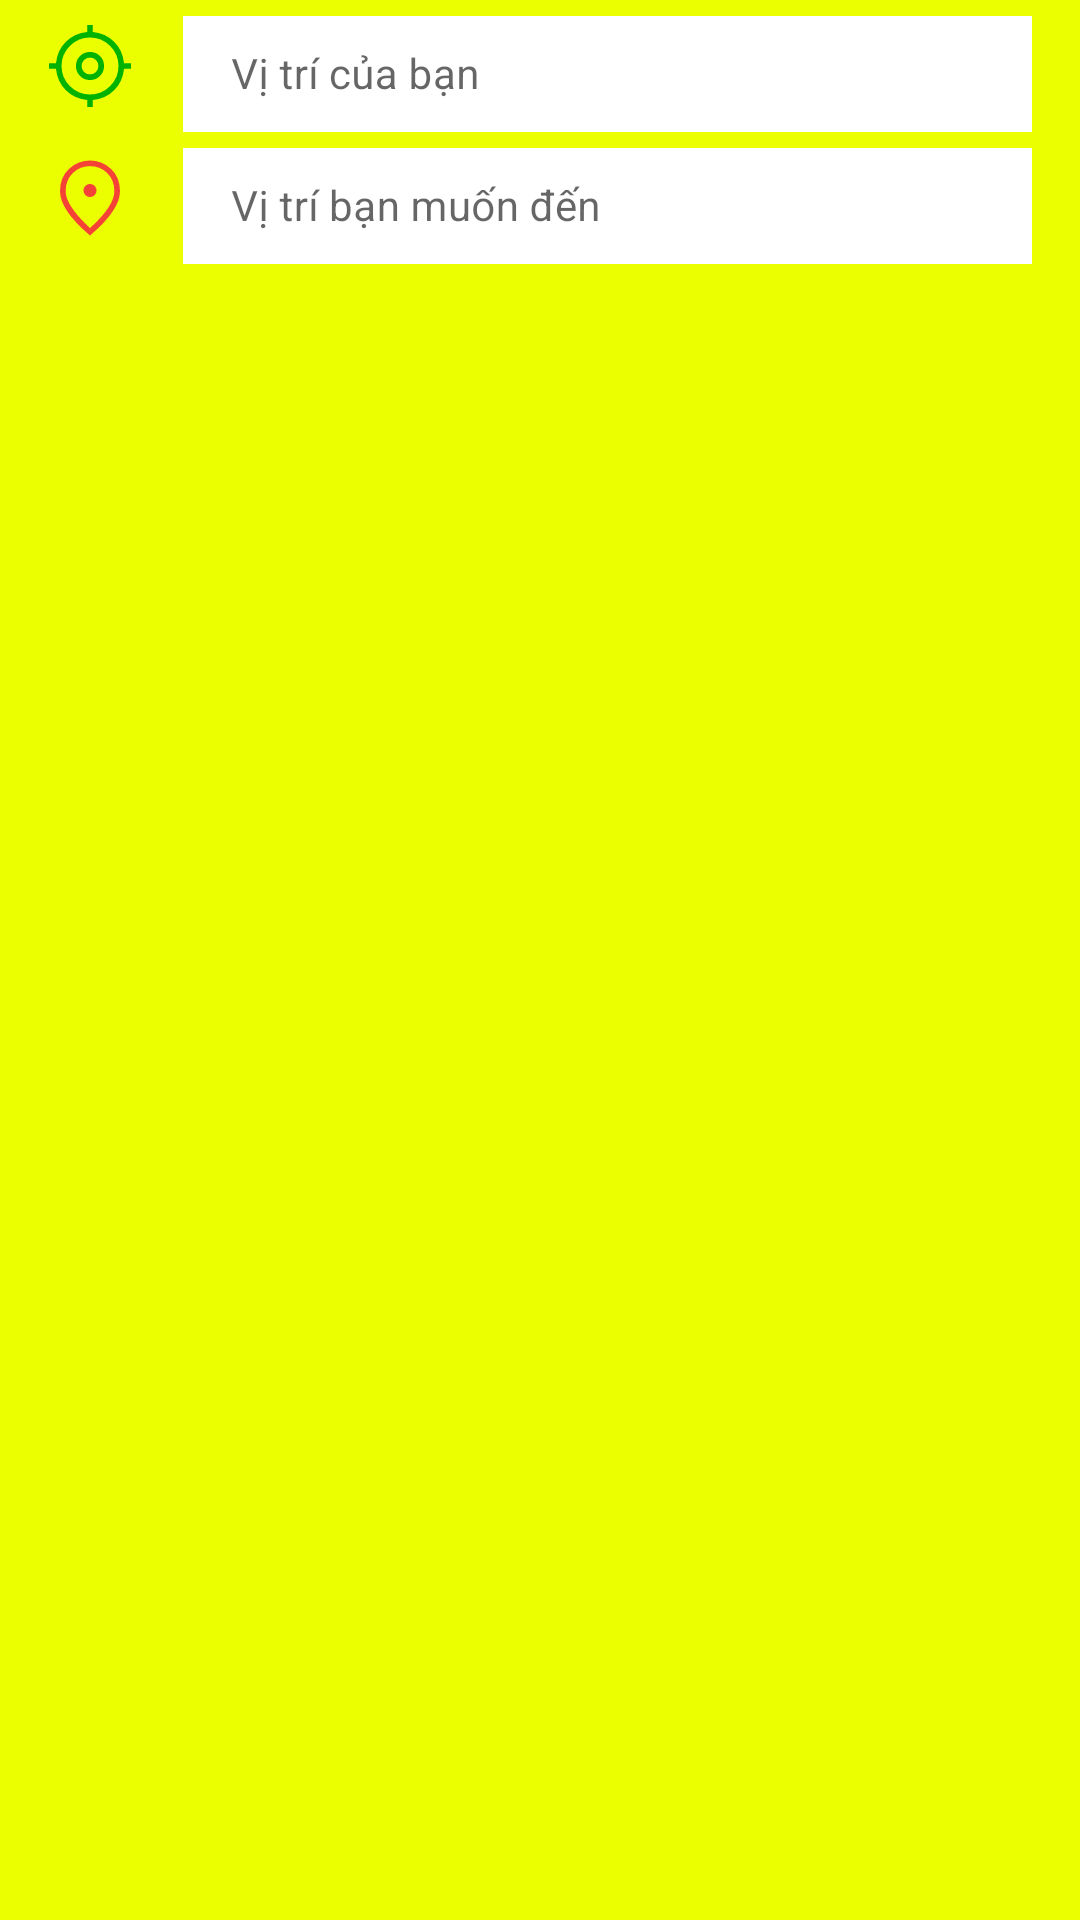

Named icons in this screenshot (1080×1920) and their bounding boxes, bbox(x1, y1, x2, y2):
location: bbox(49, 25, 131, 107)
location destination: bbox(60, 160, 120, 236)
